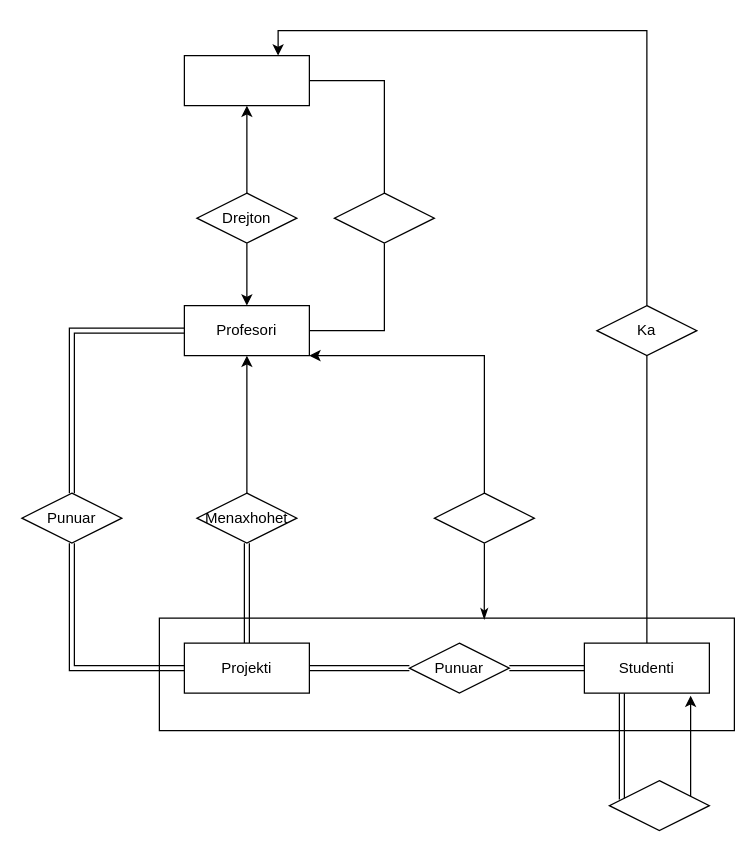
Image size: 756x853. Some labels were removed from this diagram. Here are the shapes that lost their labels. From the top down, the centre of each, then its label:
(246,80): Departamenti
(383,217): Punon
(483,517): Mbikqyr
(658,805): Kshillon
